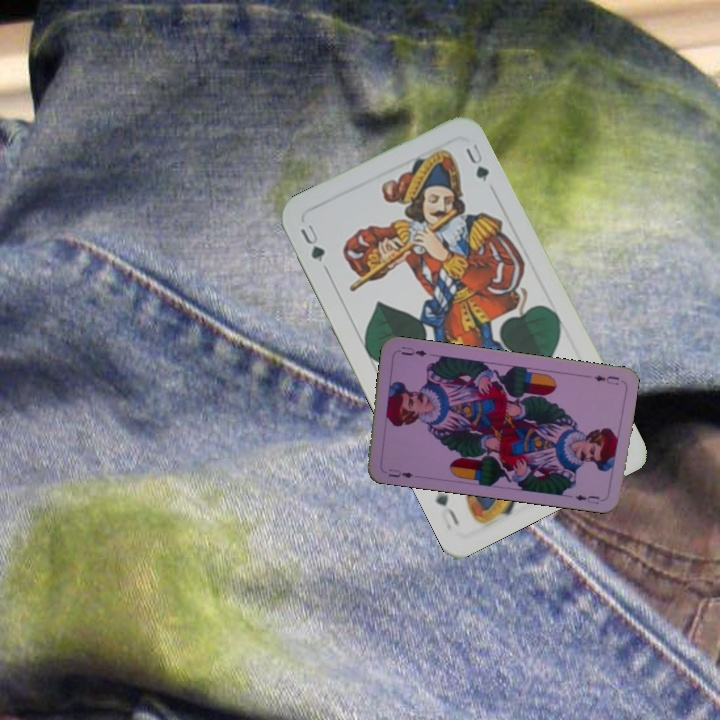EU: (384, 464, 416, 481), (590, 371, 622, 388)
GU: (296, 220, 328, 265)
